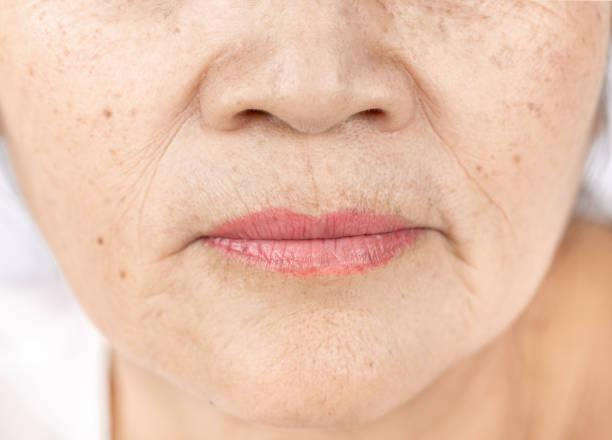Dry-Skin: (416, 14, 594, 248), (21, 20, 172, 294)
